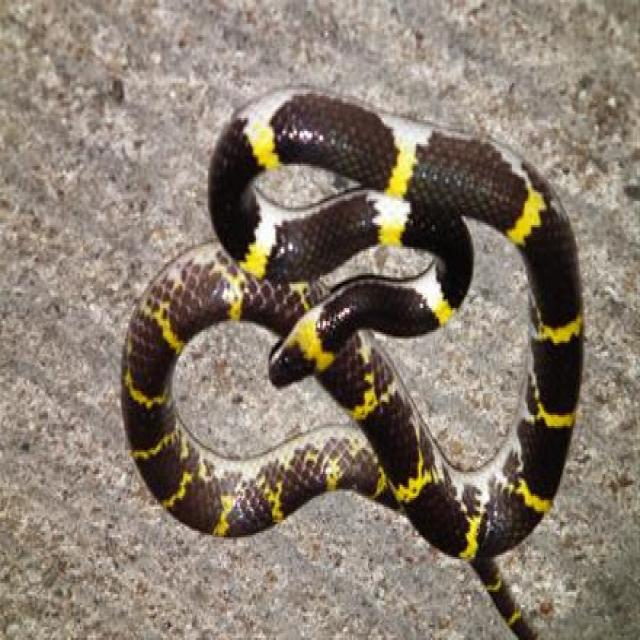Venomous: (252, 254, 501, 420)
